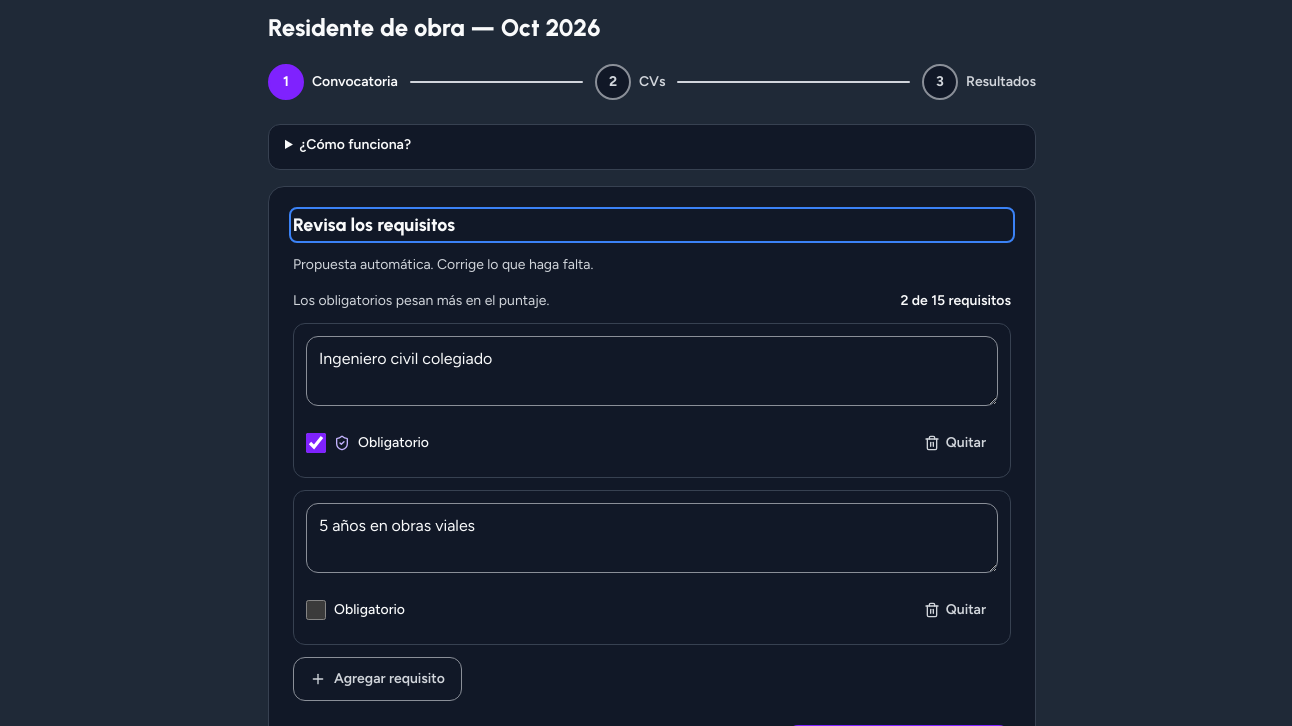
Paso 1 — requisitos › quitar y deshacer devuelve el foco a la tarjeta restaurada y la fila de aviso es una región viva fija
The image size is (1292, 726).
Check: the heading "Revisa los requisitos" is shown, box 293,214 -> 455,236
Click the button with aria-label "Quitar requisito 1". click: (955, 443)
box: 912,421 -> 998,465
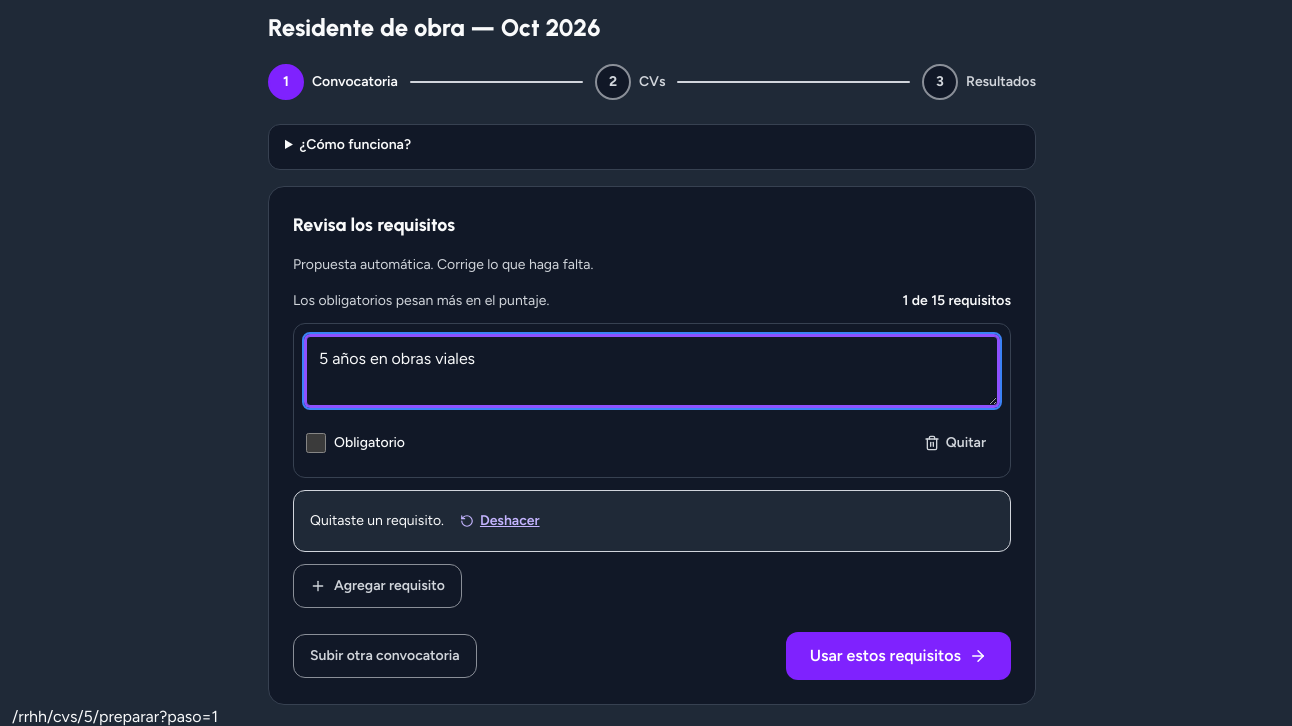
Check: the message "Quitaste un requisito." is shown, box 310,511 -> 444,531
Click the button "Deshacer". click: (500, 521)
box: 456,499 -> 544,543
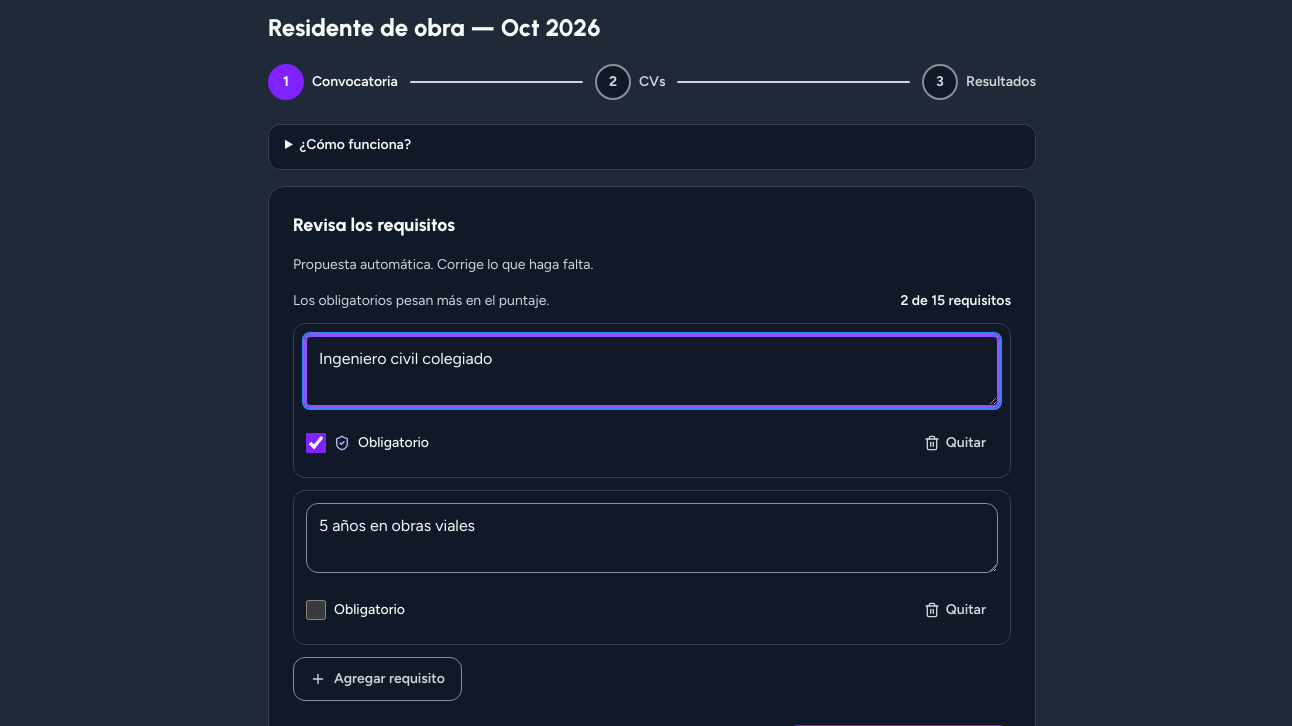
Check: the 1st text box named "Requisito 1" holds "Ingeniero civil colegiado", box 306,336 -> 998,406
